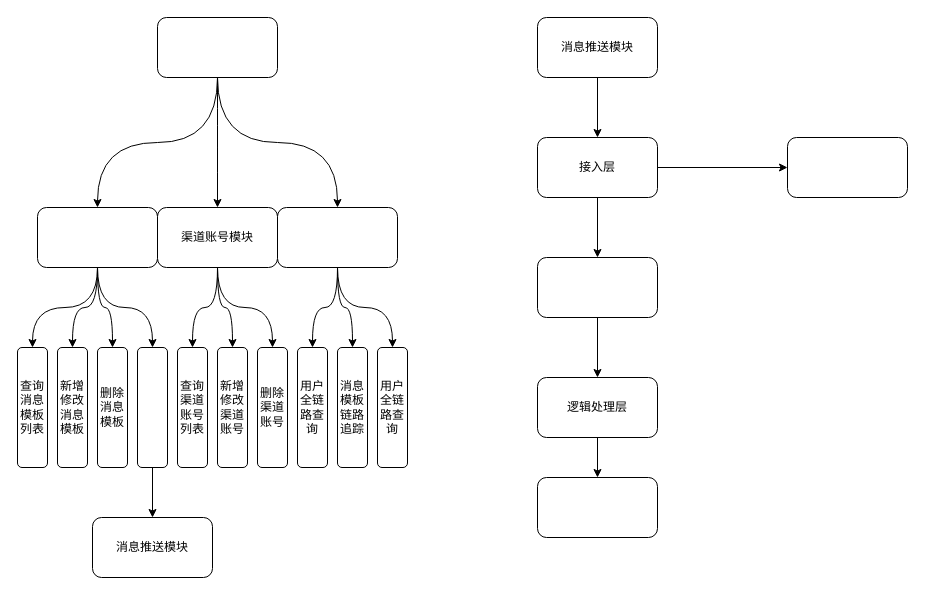
The diagram is 925 pixels wide and 595 high, and some of its shapes have lost their labels. The shapes that lost their labels are listed below. From the top down, each one's centre as x and y in pixels, then its label:
point (217, 47): 消息推送平台
point (847, 167): 对外部提供推送接口
point (97, 237): 消息模板模块
point (337, 237): 消息链路查询模块
point (597, 287): 消息队列
point (152, 407): 推送消息
point (597, 507): 消息真正下发
